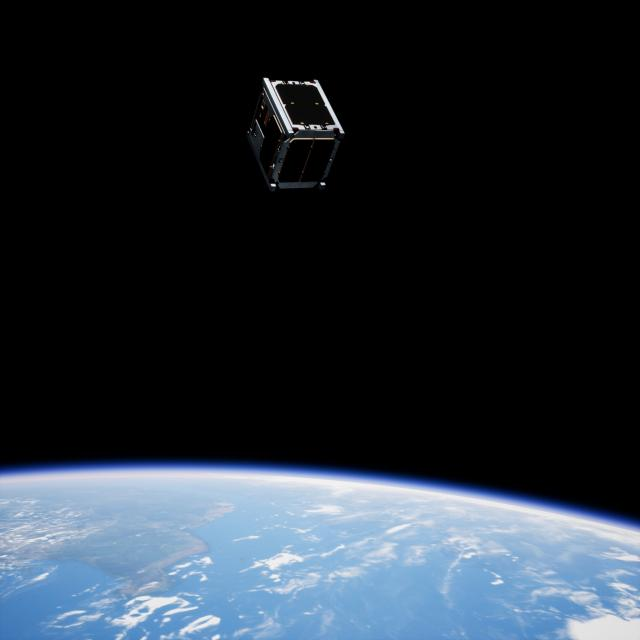satellite: (247, 74, 344, 190)
